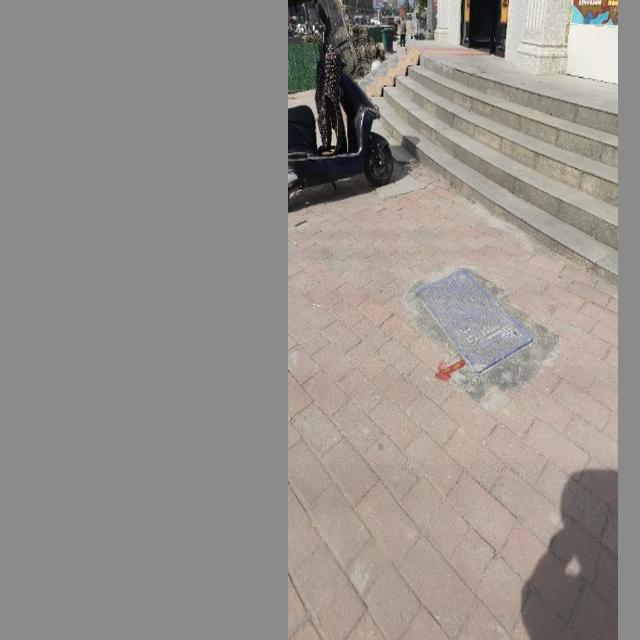good: (416, 268, 536, 373)
